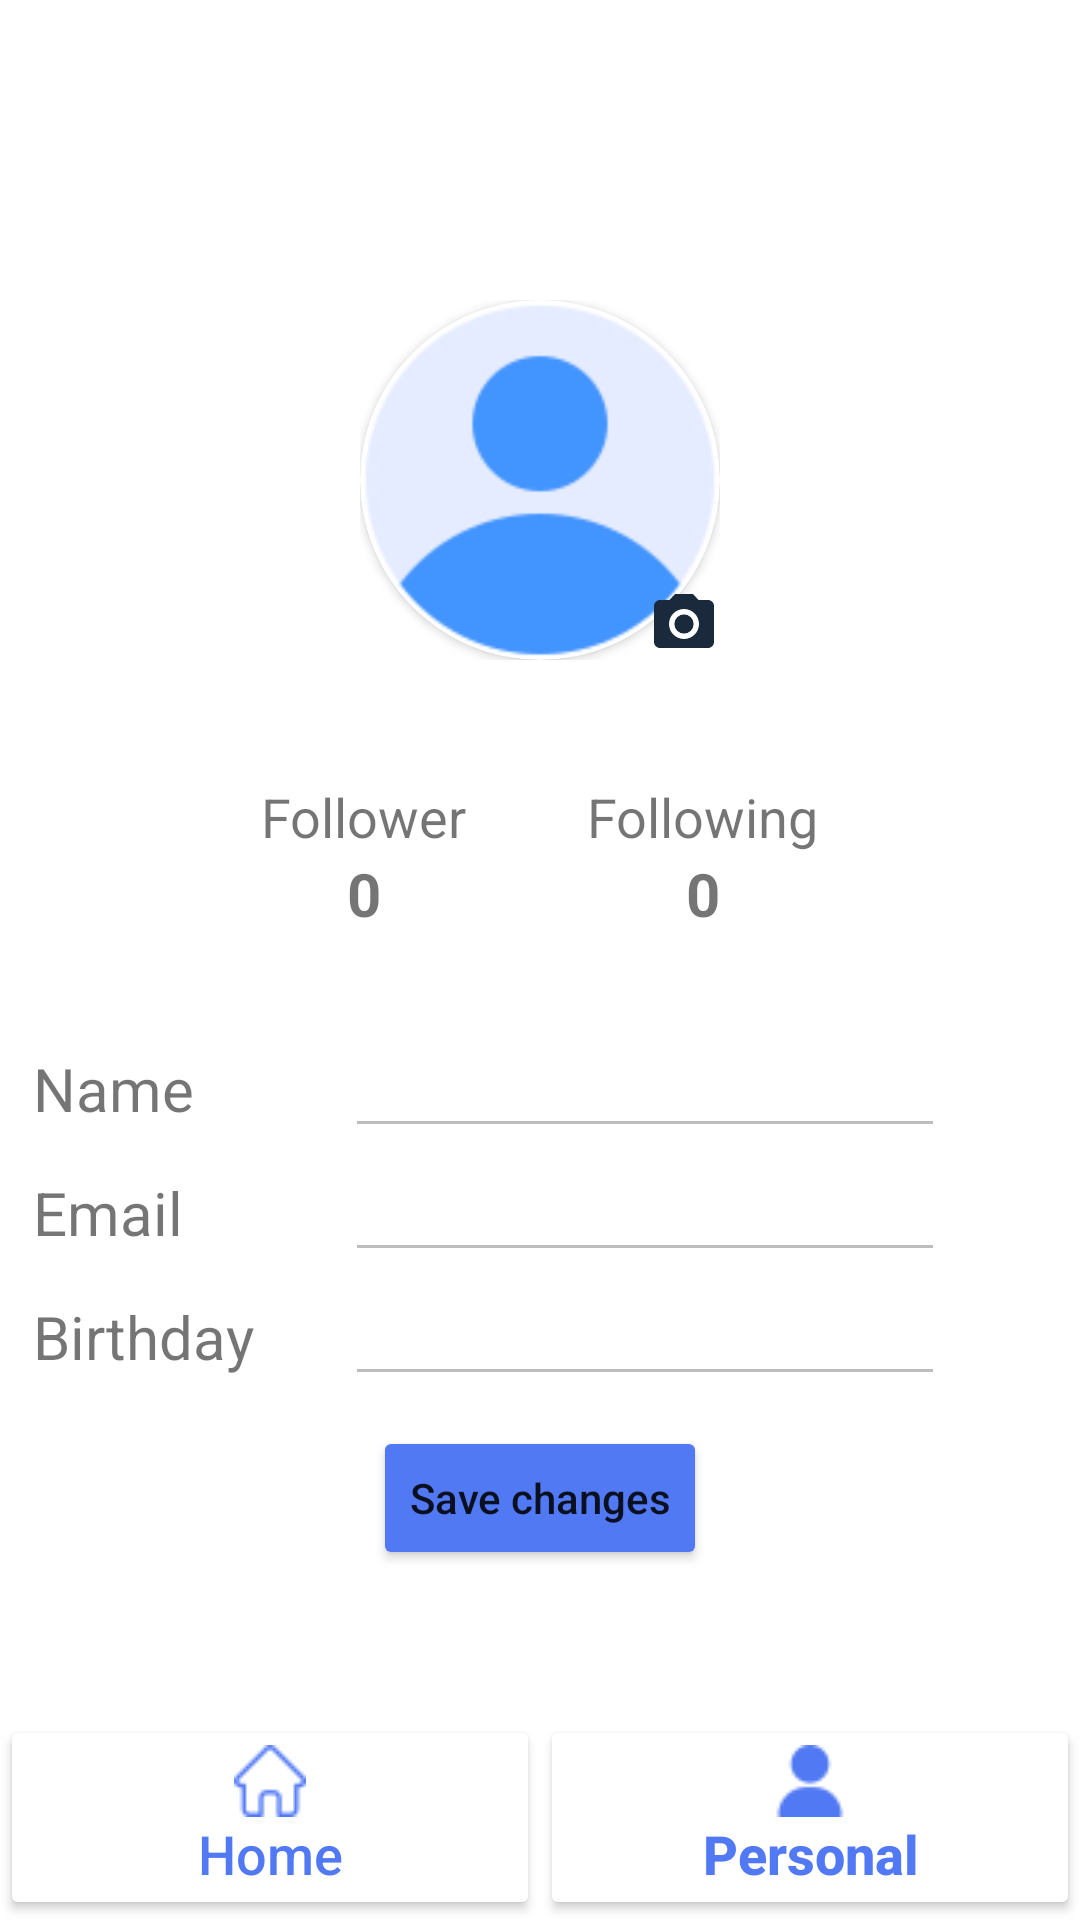

Where icons sit on this 1080x1920 app screen, as (x1, y1, x2, y2):
photo camera: (648, 588, 714, 648)
